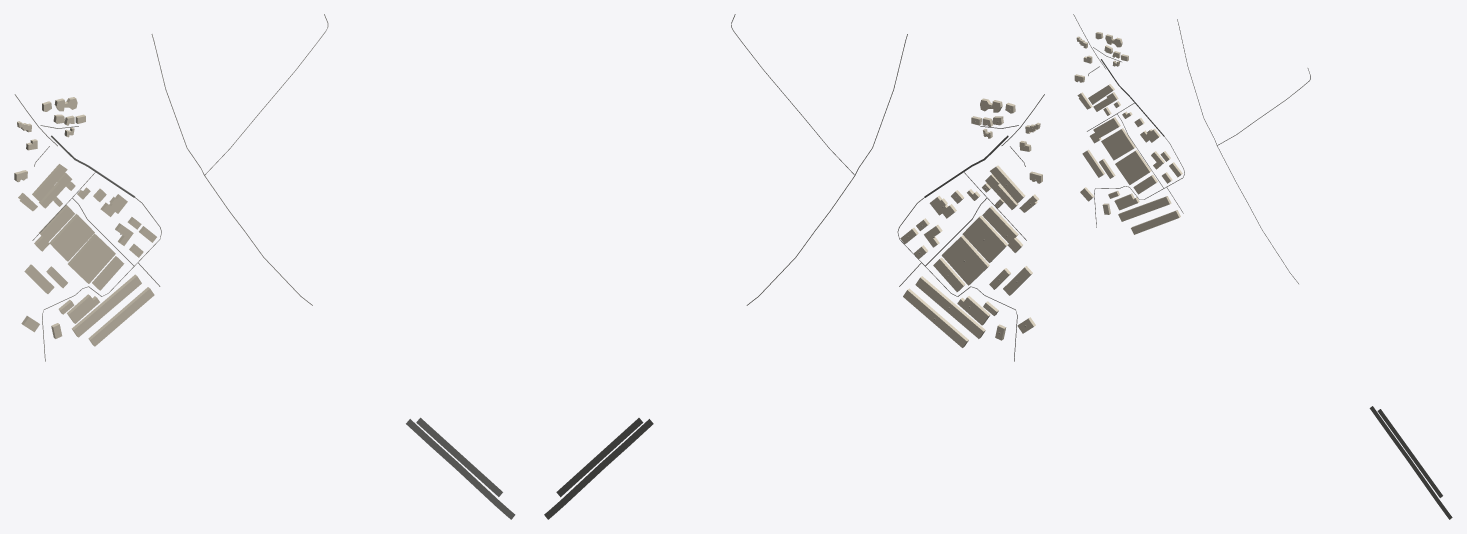
File: historic-palestine-09_33_3508_3273.glb
3 views of the same model, side by side, from view 1: azimuth 30°, elevation 25°; view 2: azimuth 150°, elevation 25°; view 3: azimuth 330°, elevation 25° (orthographic). The views are drawn at different scales.
Parts seen in each view (by area): view 1: Building_.014, Building_.015, Road דרך העמקים, Building_.011, Building_.012, Road דרך העמקים.001, Building_.016; view 2: Building_.014, Building_.015, Road דרך העמקים, Building_.011, Building_.012, Road דרך העמקים.001, Building_.016; view 3: Building_.014, Building_.015, Road דרך העמקים, Building_.011, Road דרך העמקים.001, Building_.012.
Boxes of the visible parts, left/top/right/bottom form: Building_.014: left=68, top=233, right=115, bottom=283; Building_.015: left=49, top=214, right=94, bottom=261; Road דרך העמקים: left=406, top=419, right=515, bottom=519; Building_.011: left=71, top=274, right=141, bottom=337; Building_.012: left=88, top=287, right=154, bottom=346; Road דרך העמקים.001: left=416, top=417, right=502, bottom=496; Building_.016: left=34, top=205, right=74, bottom=251; Building_.014: left=941, top=235, right=989, bottom=285; Building_.015: left=962, top=215, right=1007, bottom=262; Road דרך העמקים: left=544, top=419, right=653, bottom=519; Building_.011: left=915, top=276, right=985, bottom=338; Building_.012: left=903, top=288, right=968, bottom=347; Road דרך העמקים.001: left=556, top=418, right=643, bottom=497; Building_.016: left=982, top=206, right=1022, bottom=252; Building_.014: left=1115, top=150, right=1151, bottom=184; Building_.015: left=1101, top=128, right=1135, bottom=160; Road דרך העמקים: left=1369, top=406, right=1452, bottom=519; Building_.011: left=1118, top=196, right=1171, bottom=221; Road דרך העמקים.001: left=1377, top=409, right=1442, bottom=497; Building_.012: left=1131, top=210, right=1180, bottom=234.
Bounding box in the file's own units: 1032 × 1129 × 8.7.
